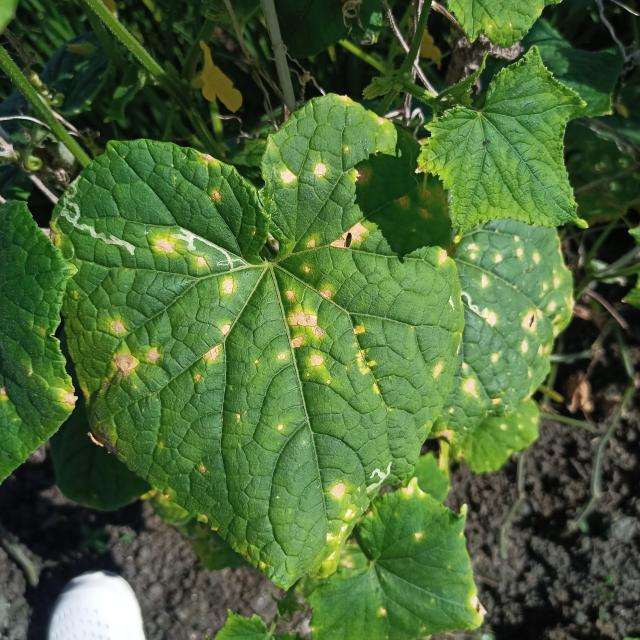disease_cucumber: (84, 160, 454, 401), (458, 227, 574, 443), (325, 479, 364, 559)
